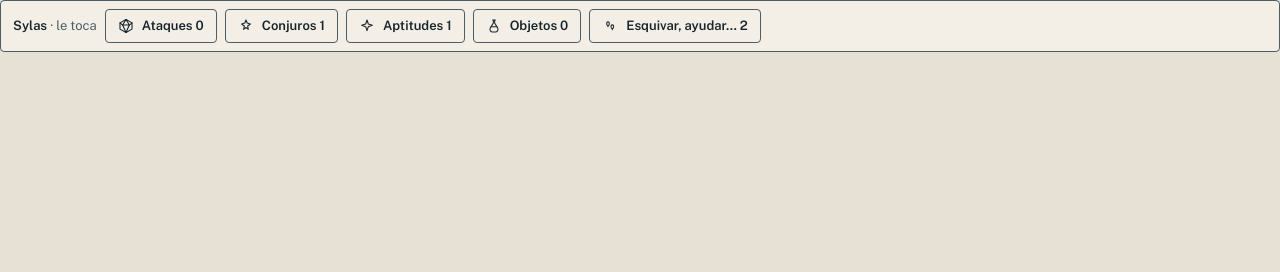
Test: BarraDeAcciones — un error del servidor se lee en la fila › si usarActividad falla, la fila enseña el mensaje como alerta
Click the button with aria-label "Esquivar, ayudar…: 2": coordinates (675, 26) [589,9,761,42]
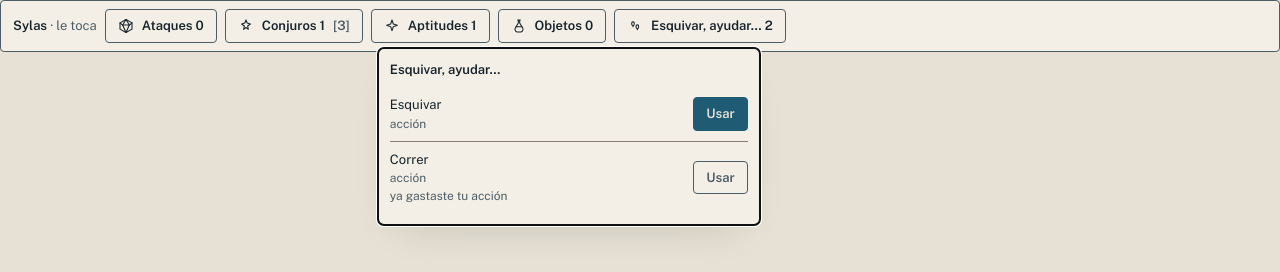
Click the 1st button "Usar": coordinates (721, 114) [693,97,748,130]
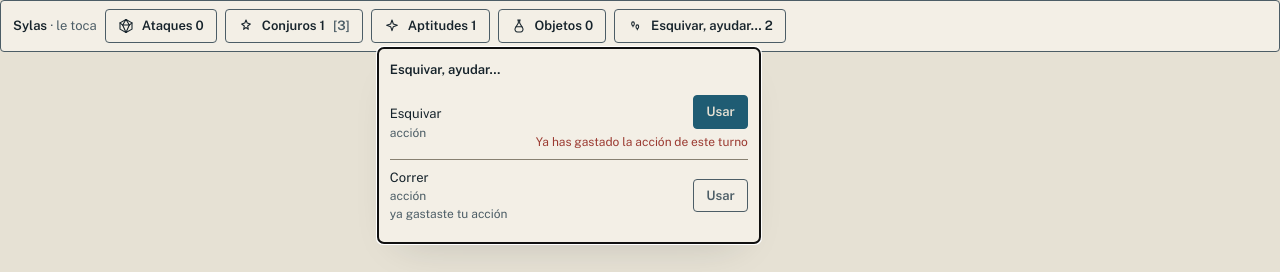
Now the message reads "Ya has gastado la acción de este turno", box [536,134,748,148]
